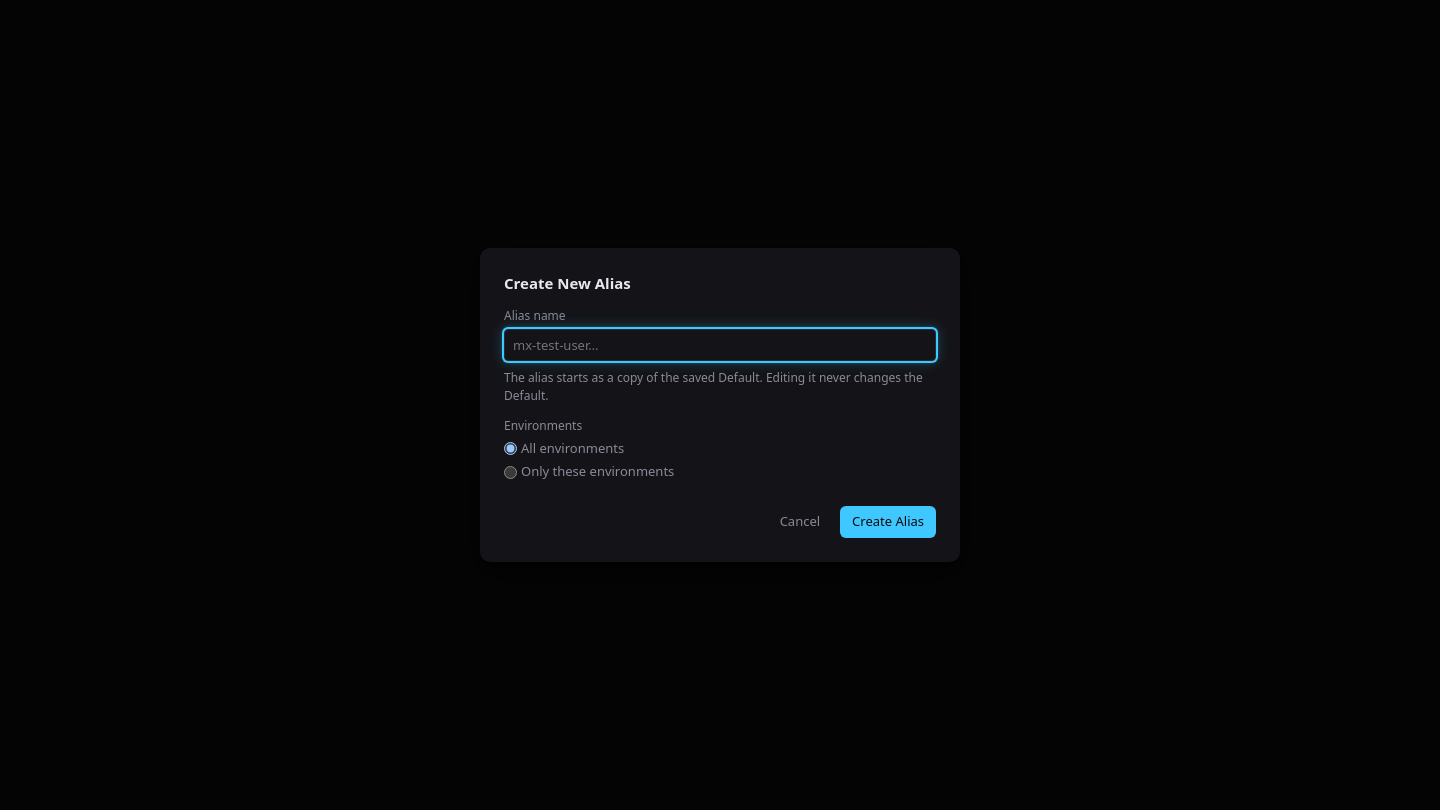
Test case: CreateAliasDialog environments › creates an alias for HML while Prod is active and shows it with Send blocked
In the field labelled "Alias name": (720, 345) [504,329,936,361], type "canary"
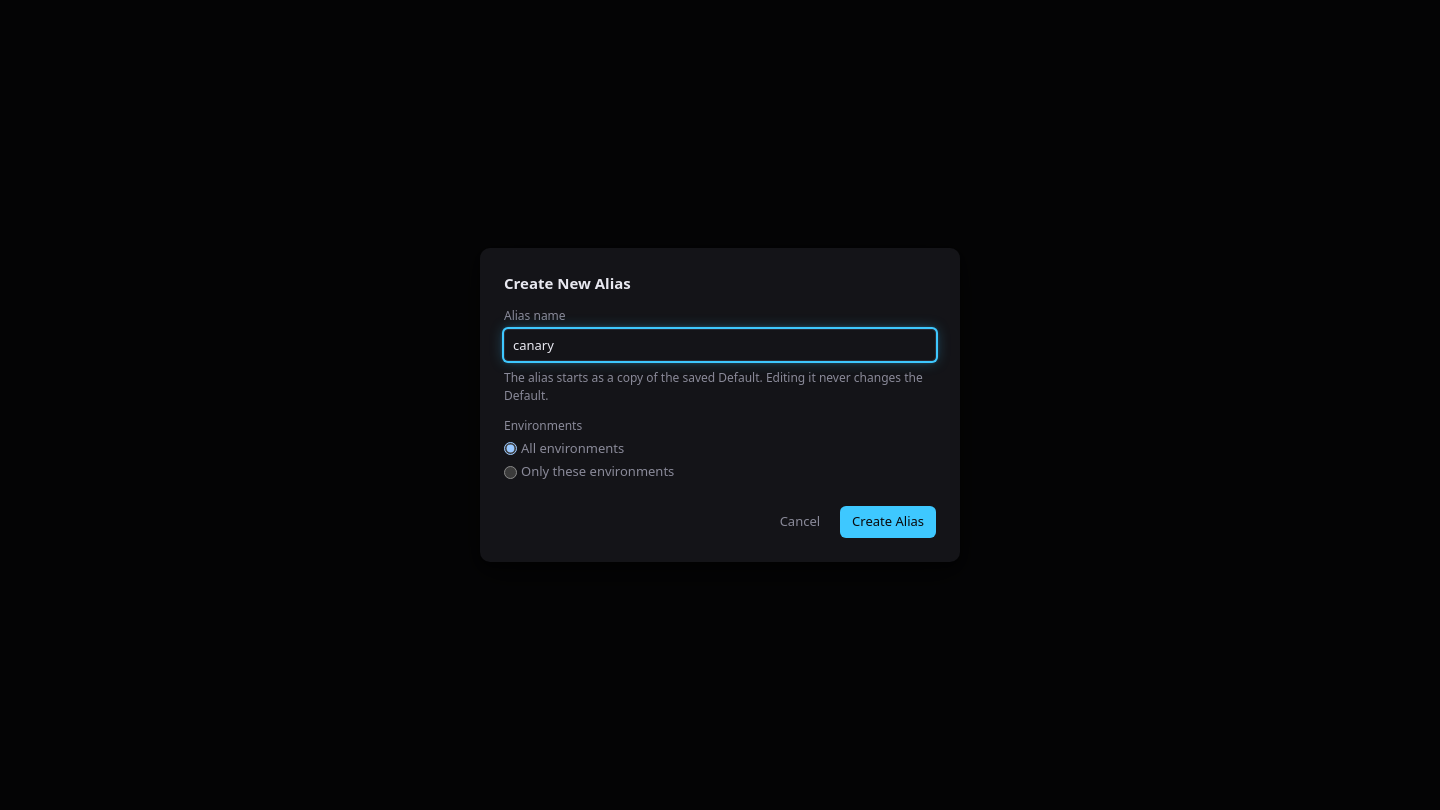
Click the radio button labelled "Only these environments": (510, 472) [504,466,517,478]
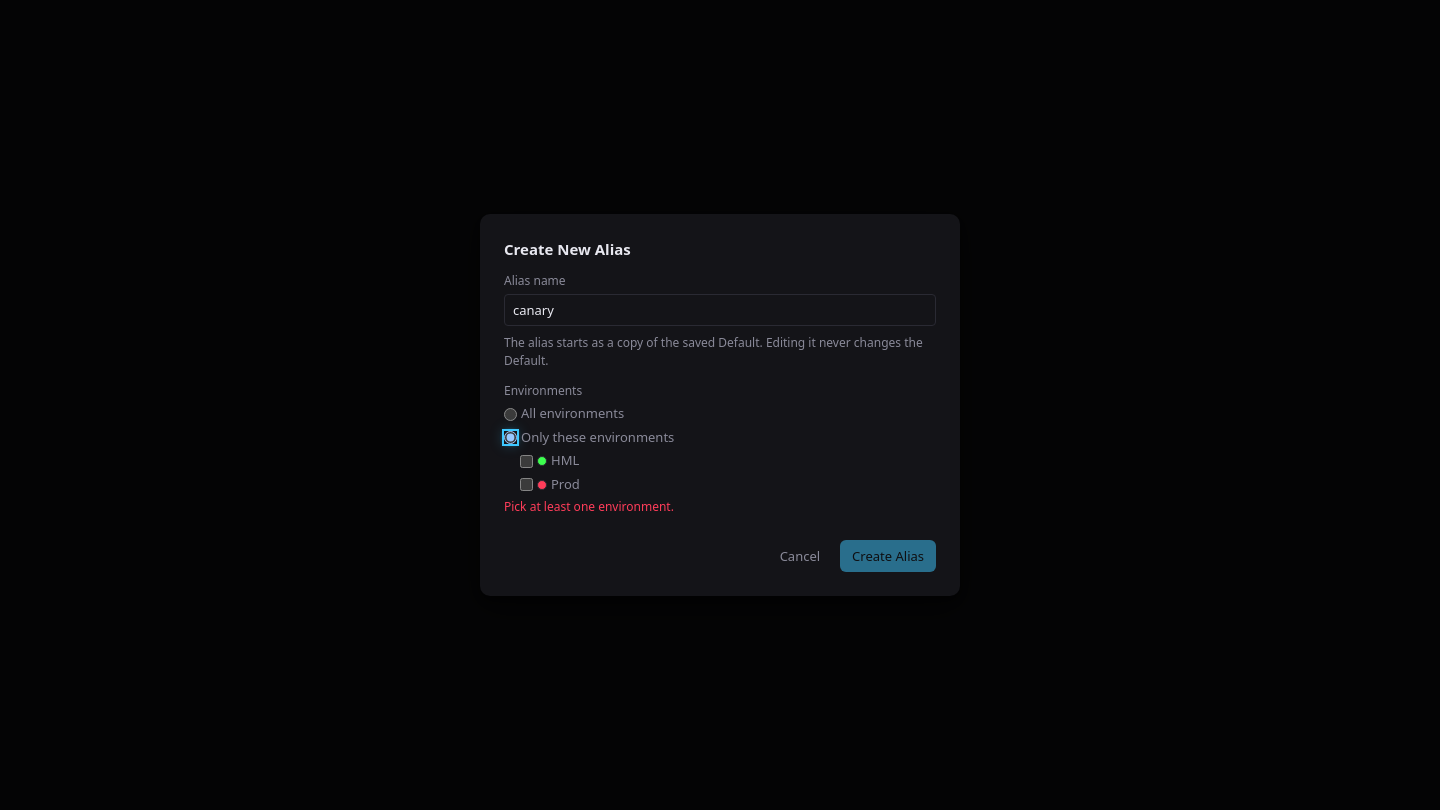
Click the checkbox labelled "HML": (526, 461) [520,454,533,468]
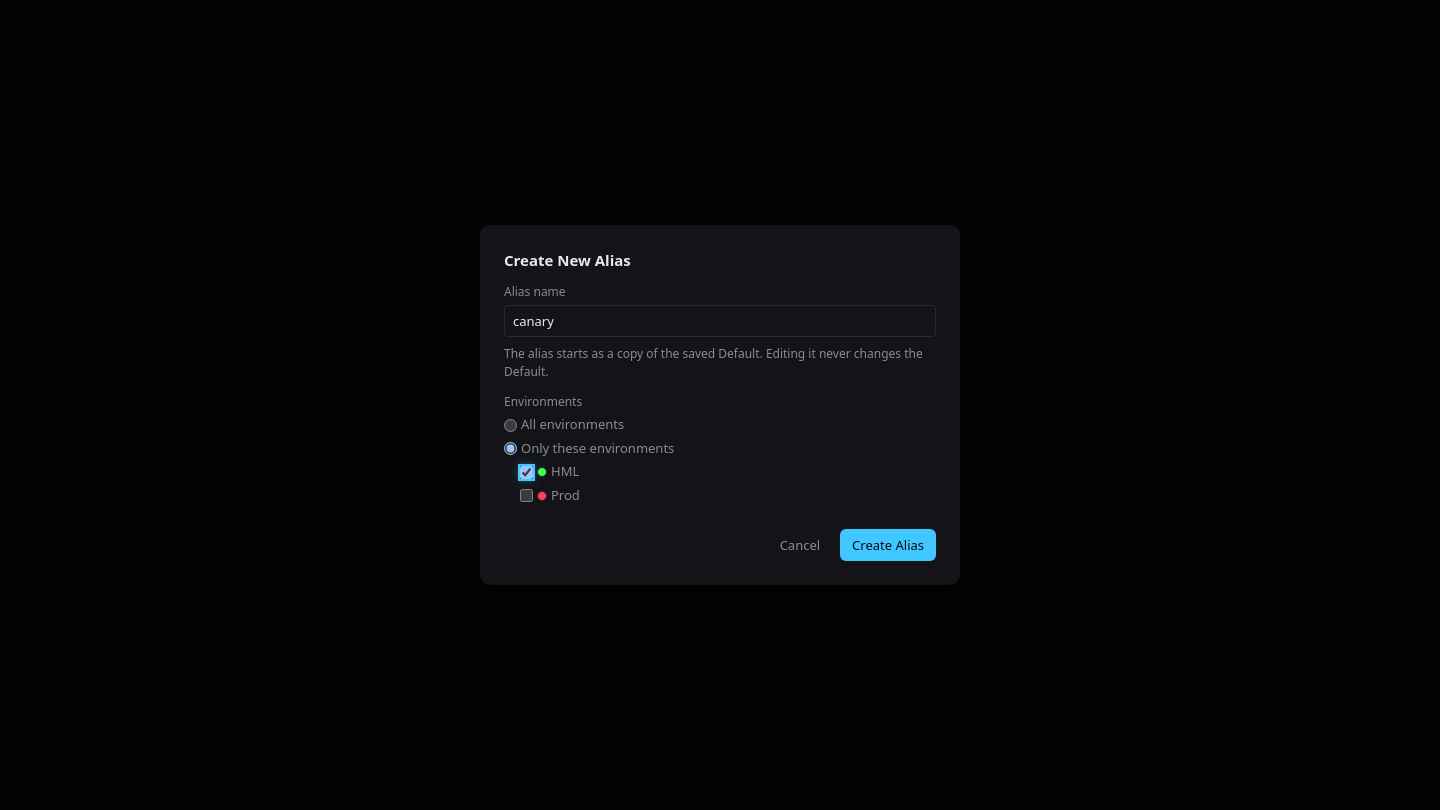
Click the button "Create Alias": (888, 545) [840,529,936,561]
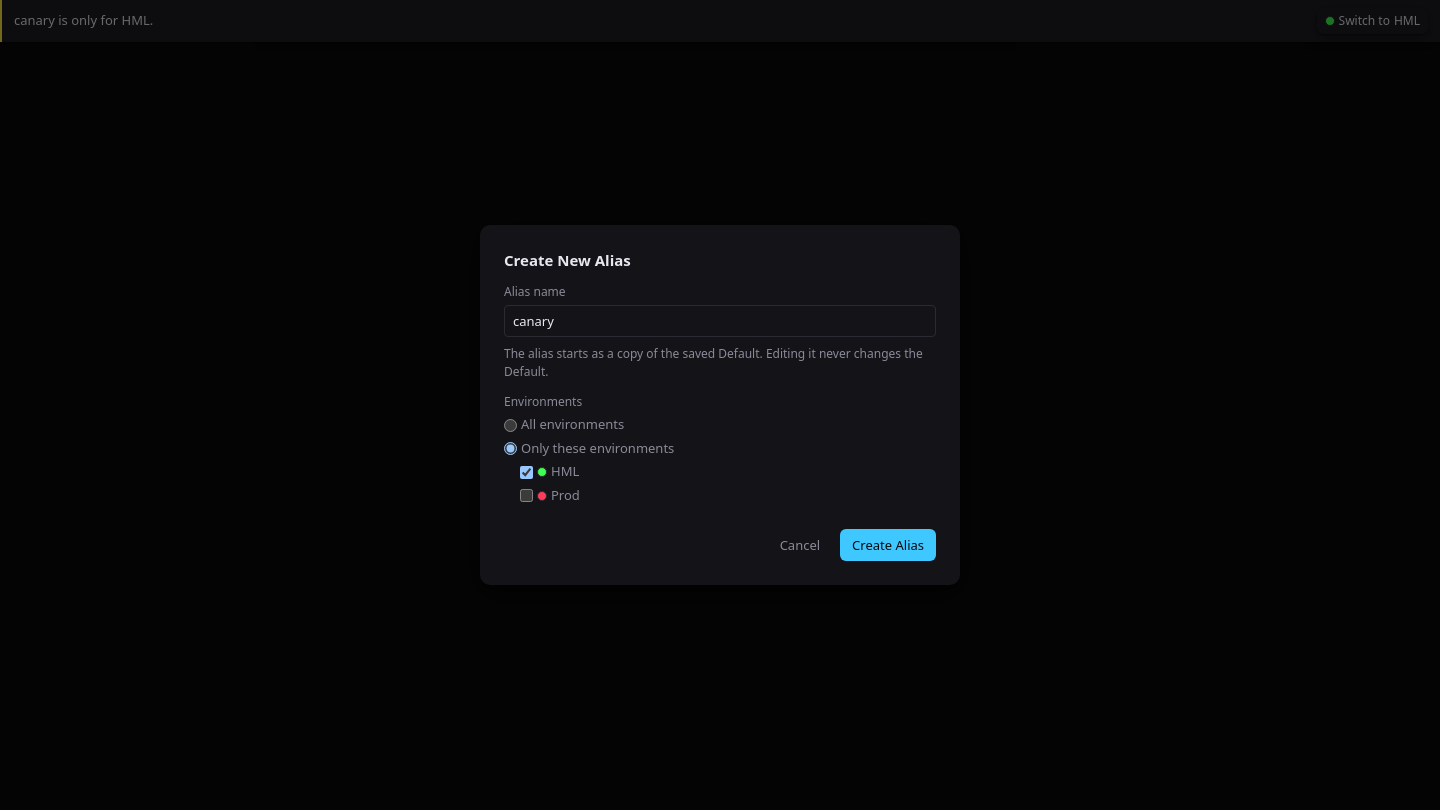
Expected: the message shows "canary is only for HML.", [0,0,1439,42]
